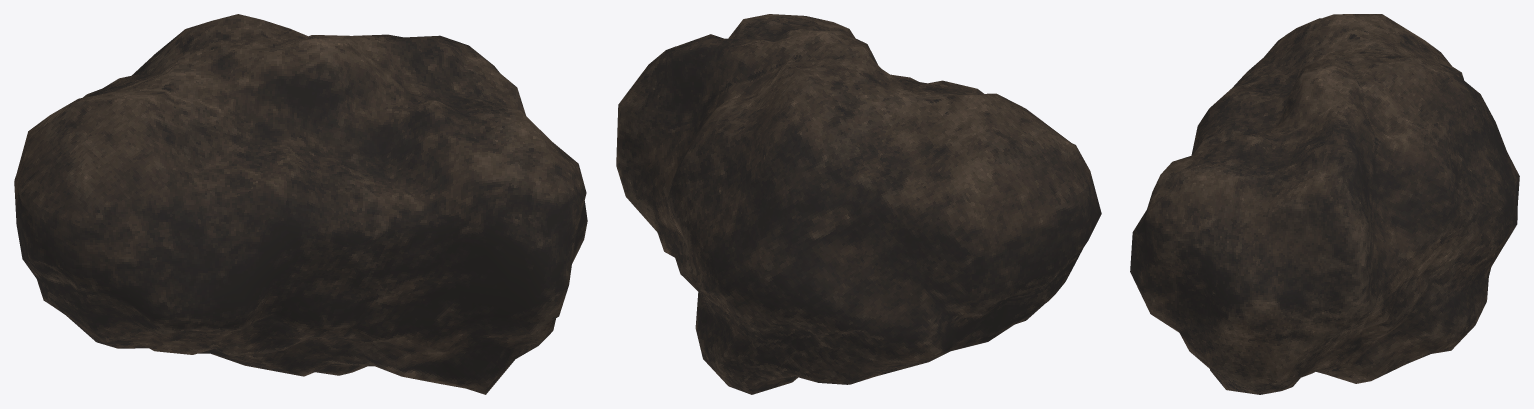
File: SM_RP2_Rock_8m_2.002.glb
3 renders of one model, left to right at view 1: azimuth 30°, elevation 25°; view 2: azimuth 150°, elevation 25°; view 3: azimuth 270°, elevation 25°, orthographic. The views are drawn at different scales.
Visible parts, largest first — view 1: SM_RP2_Rock_8m_2.002; view 2: SM_RP2_Rock_8m_2.002; view 3: SM_RP2_Rock_8m_2.002.
Part boxes in pixels (x1=…): SM_RP2_Rock_8m_2.002: x1=14, y1=14, x2=587, y2=394; SM_RP2_Rock_8m_2.002: x1=616, y1=14, x2=1101, y2=394; SM_RP2_Rock_8m_2.002: x1=1130, y1=14, x2=1519, y2=394.
Size of the model in its own units: 14.84 by 9.94 by 12.03.
1 material, 1 textured.
